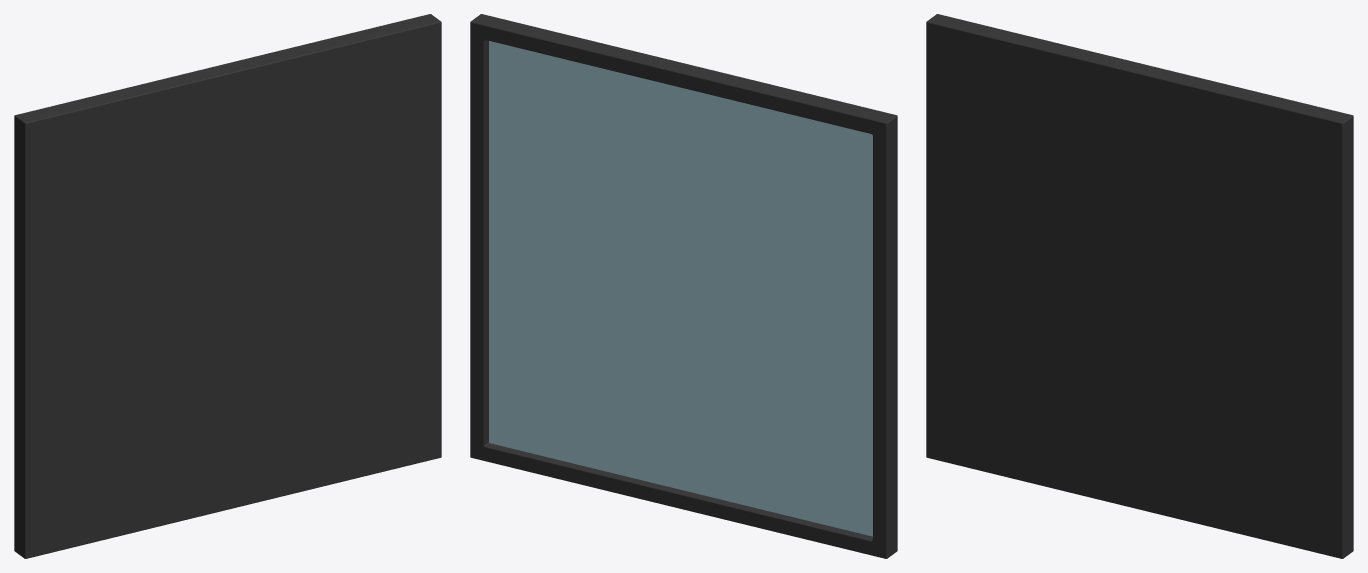
The model's file is VP_Picture_Frames_07.FBX.
3 renders of one model, left to right at view 1: azimuth 30°, elevation 25°; view 2: azimuth 150°, elevation 25°; view 3: azimuth 330°, elevation 25°, orthographic.
Parts seen in each view (by area): view 1: VP_Picture_Frames_07; view 2: VP_Picture_Frames_07; view 3: VP_Picture_Frames_07.
Boxes of the visible parts, <box> form: VP_Picture_Frames_07: <box>14,14,441,558</box>; VP_Picture_Frames_07: <box>470,14,897,558</box>; VP_Picture_Frames_07: <box>926,14,1353,558</box>.
Size of what is drawn, in the model's own units: 50.16 by 2.35 by 50.16.
